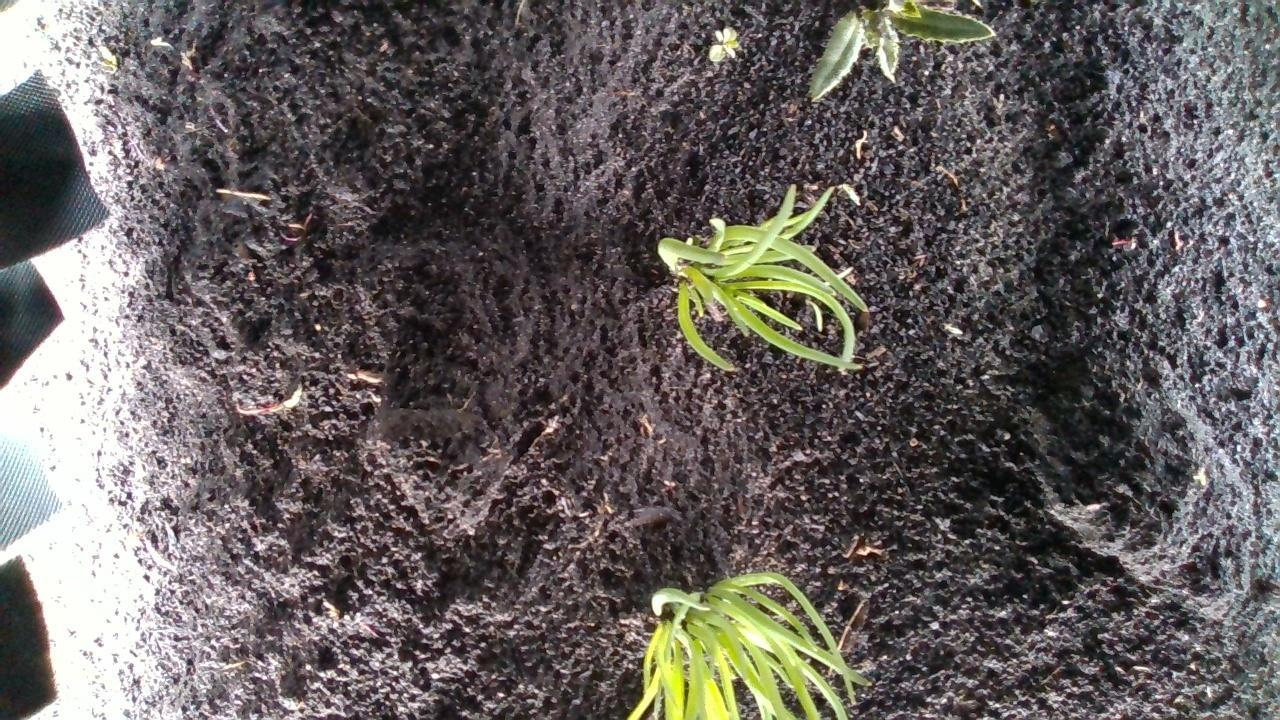weed: (708, 25, 735, 68)
